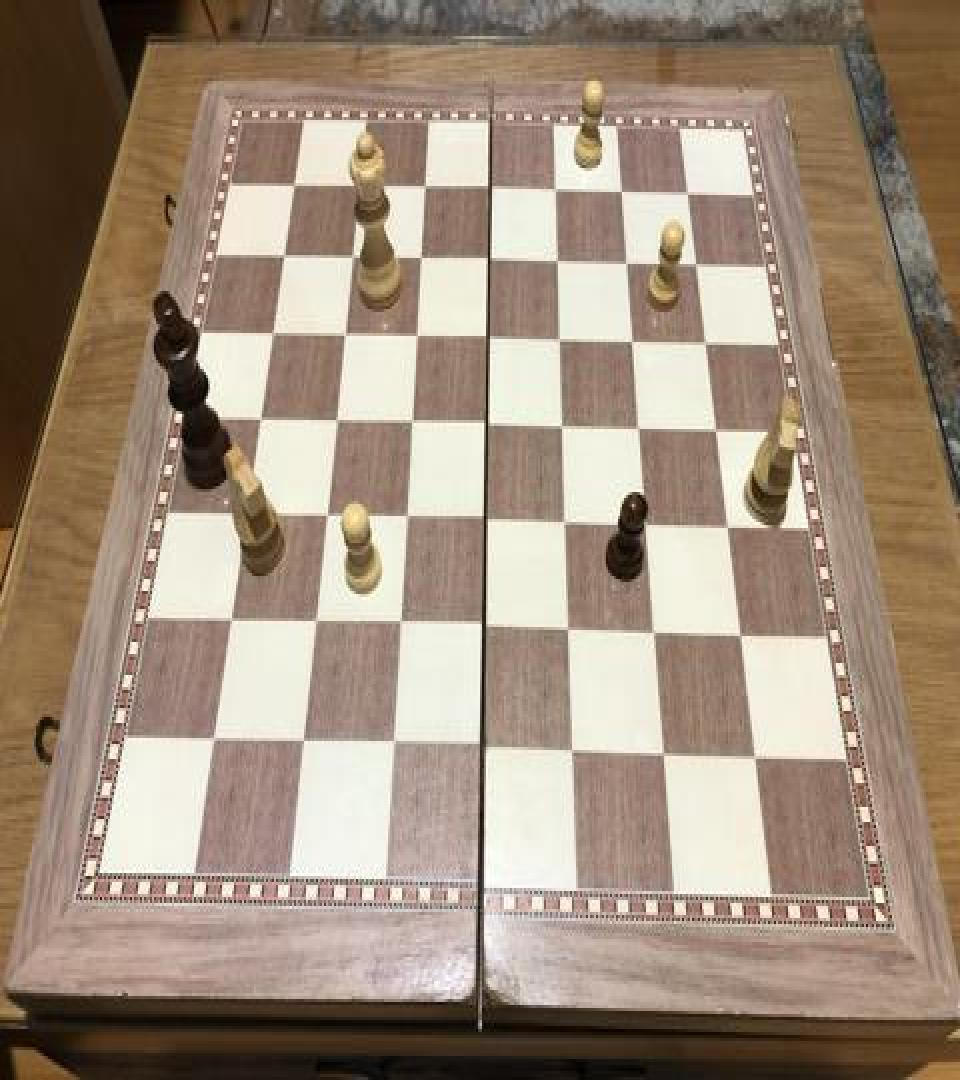xcorner: (218, 601, 242, 638), (745, 739, 769, 776), (562, 733, 586, 770), (381, 727, 405, 764), (676, 177, 700, 213), (609, 176, 633, 212), (543, 174, 567, 210), (412, 171, 436, 207), (346, 170, 370, 206), (281, 168, 305, 204), (684, 248, 708, 284), (615, 246, 639, 282), (546, 244, 570, 280), (477, 243, 501, 279), (408, 242, 432, 278), (339, 240, 363, 276), (271, 238, 295, 274), (694, 327, 718, 363), (621, 324, 645, 360), (548, 322, 572, 358), (476, 321, 500, 357), (404, 320, 428, 356), (332, 316, 356, 352), (260, 315, 284, 351), (628, 411, 652, 447), (551, 410, 575, 446), (475, 406, 499, 442), (399, 405, 423, 441), (323, 402, 347, 438), (247, 400, 271, 436), (717, 510, 741, 546), (636, 507, 660, 543), (555, 506, 579, 542), (474, 502, 498, 538), (394, 500, 418, 536), (313, 498, 337, 534), (234, 495, 258, 531), (730, 618, 754, 654), (644, 615, 668, 651), (558, 612, 582, 648), (473, 609, 497, 645), (388, 608, 412, 644), (303, 604, 327, 640), (654, 736, 678, 772), (472, 730, 496, 766), (291, 724, 315, 760), (201, 722, 225, 758), (478, 173, 502, 208), (705, 413, 729, 448)
